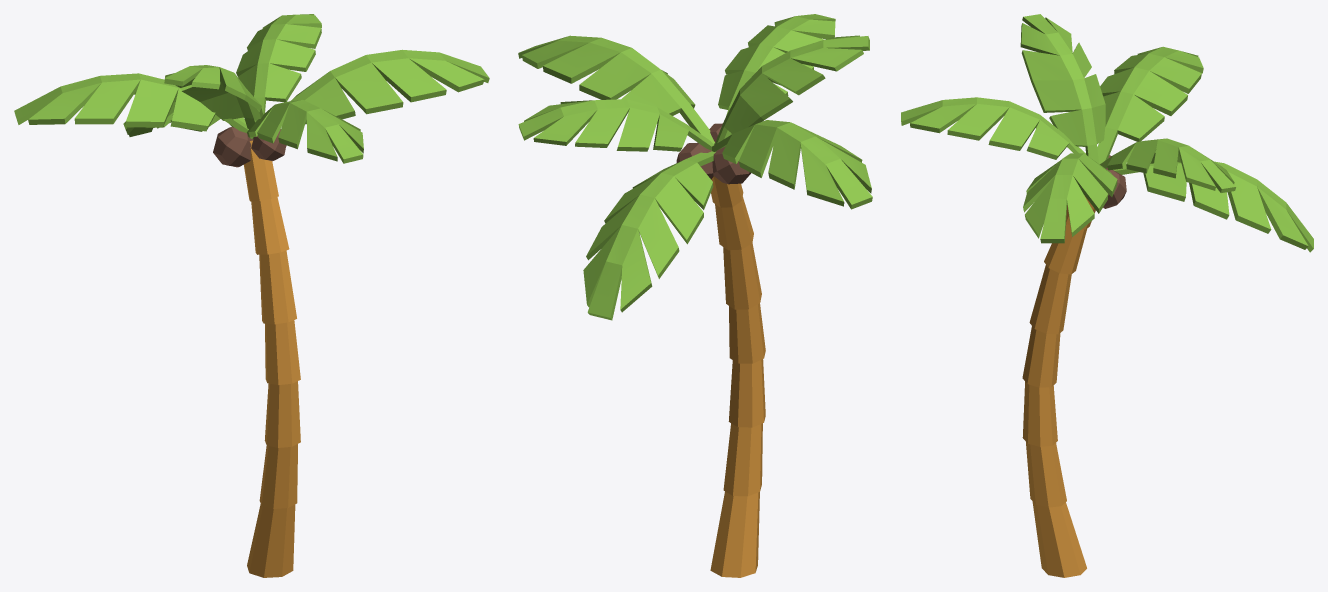
Rendered from palm_jeremy.glb.
The picture shows the model from 3 angles, left to right: view 1: azimuth 30°, elevation 25°; view 2: azimuth 150°, elevation 25°; view 3: azimuth 270°, elevation 25°; orthographic projection. The views are drawn at different scales.
Parts seen in each view (by area): view 1: palm_tree_01; view 2: palm_tree_01; view 3: palm_tree_01.
Boxes of the visible parts, box(x1,y1,x2,y2) form: palm_tree_01: box(14, 14, 489, 577); palm_tree_01: box(518, 14, 872, 577); palm_tree_01: box(901, 14, 1313, 577).
Size of the model in its own units: 160 by 200 by 149.
